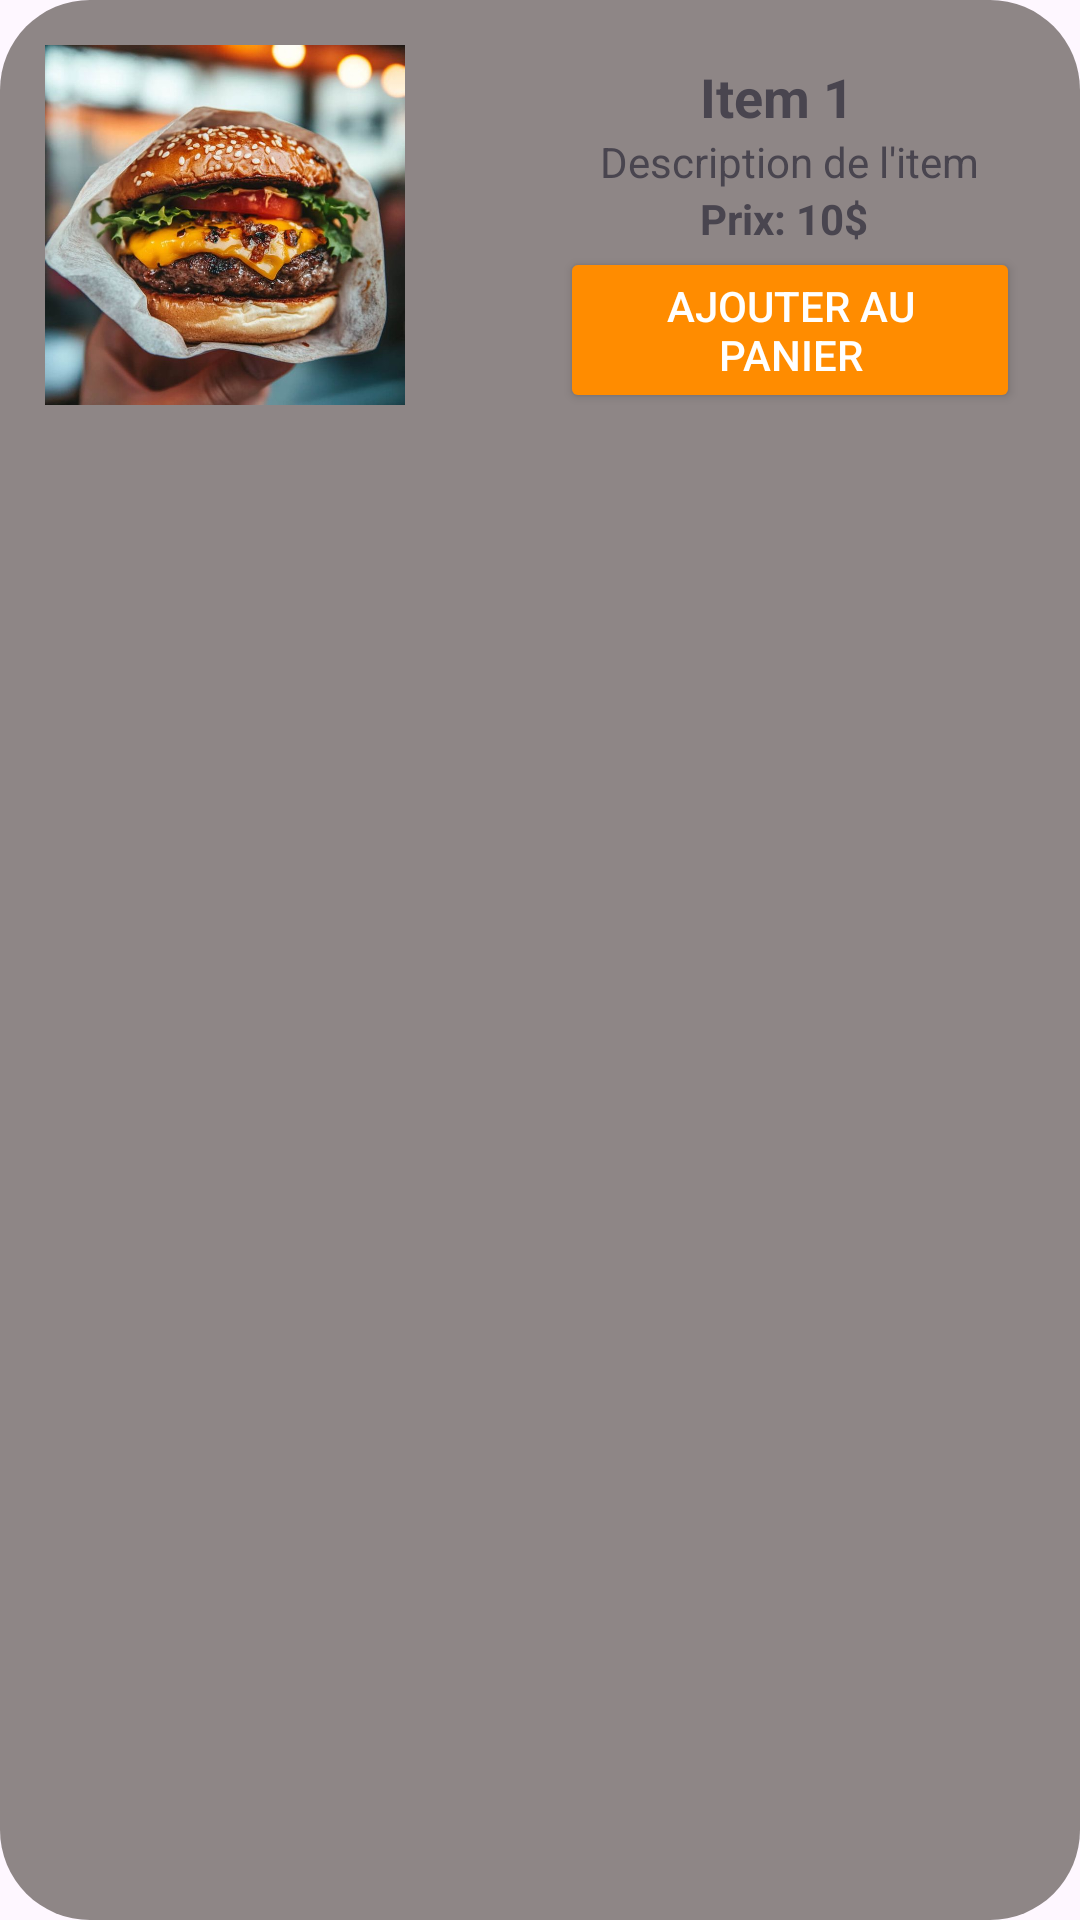

Named icons in this screenshot (1080×1920) and their bounding boxes, detection(x1, y1, x2, y2):
imageburger: detection(45, 45, 405, 405)
